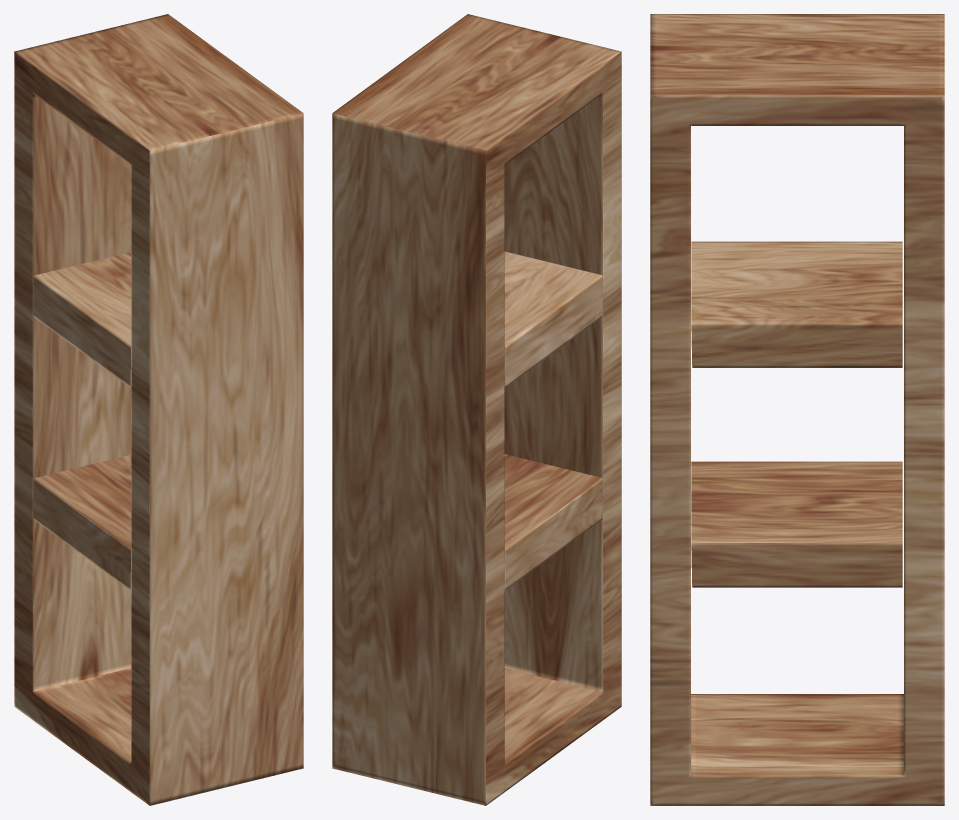
Rendered from shelve_03.obj.
The picture shows the model from 3 angles, left to right: view 1: azimuth 30°, elevation 25°; view 2: azimuth 150°, elevation 25°; view 3: azimuth 270°, elevation 25°; orthographic projection. The views are drawn at different scales.
Parts seen in each view (by area): view 1: shelve_03; view 2: shelve_03; view 3: shelve_03.
Boxes of the visible parts, left/top/right/bottom form: shelve_03: left=14, top=14, right=303, bottom=805; shelve_03: left=332, top=14, right=621, bottom=805; shelve_03: left=650, top=14, right=944, bottom=805.
Bounding box in the file's own units: 1.48 × 6.01 × 2.26.
